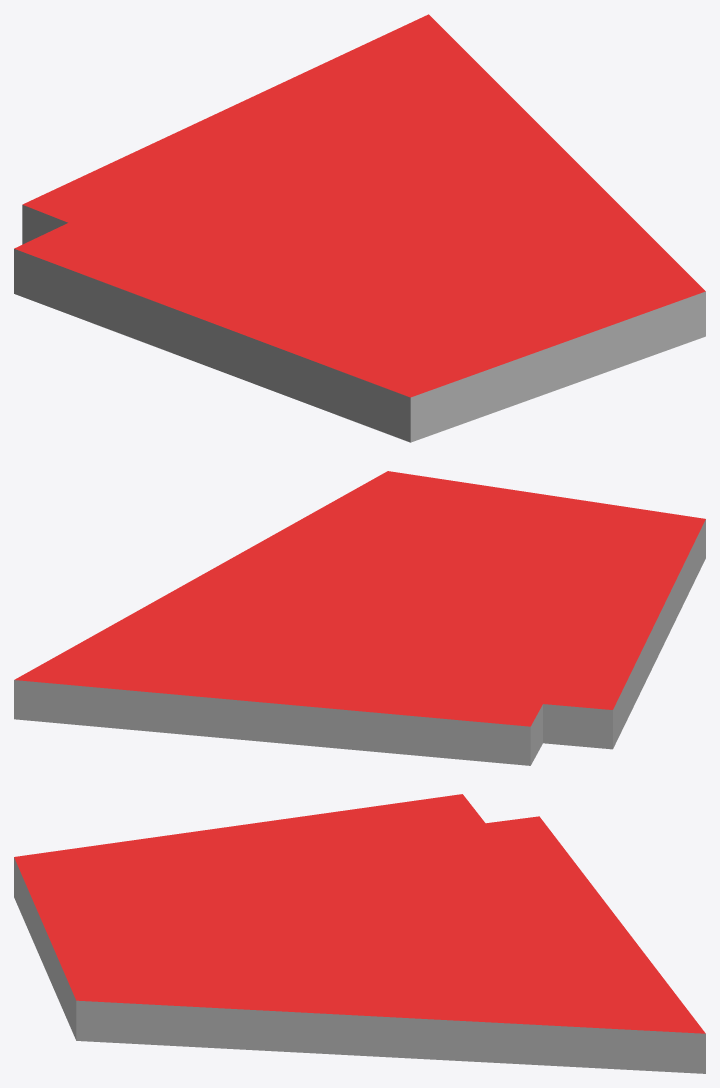
Rendered from DEBY_LOD2_104583900.dae.
The picture shows the model from 3 angles, top to bottom: view 1: azimuth 30°, elevation 25°; view 2: azimuth 150°, elevation 25°; view 3: azimuth 270°, elevation 25°; orthographic projection. The views are drawn at different scales.
Bounding box in the file's own units: 11.38 × 13.88 × 0.89.
